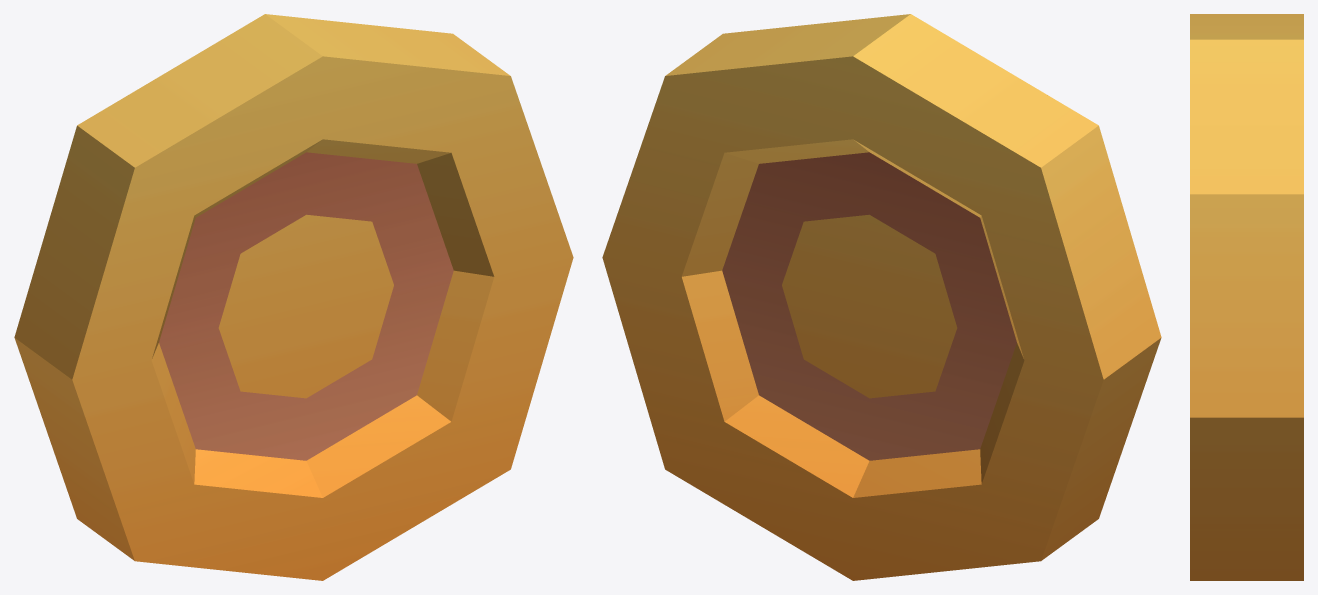
File: coin.glb
The picture shows the model from 3 angles, left to right: view 1: azimuth 30°, elevation 25°; view 2: azimuth 150°, elevation 25°; view 3: azimuth 270°, elevation 25°; orthographic projection.
Visible parts, largest first — view 1: coin-gold; view 2: coin-gold; view 3: coin-gold.
Boxes of the visible parts, x1,y1,x2,y2 form: coin-gold: (14, 14, 573, 580); coin-gold: (602, 14, 1161, 580); coin-gold: (1190, 14, 1303, 580).
Size of the model in its own units: 0.6 by 0.6 by 0.12.
1 material, 1 textured.
